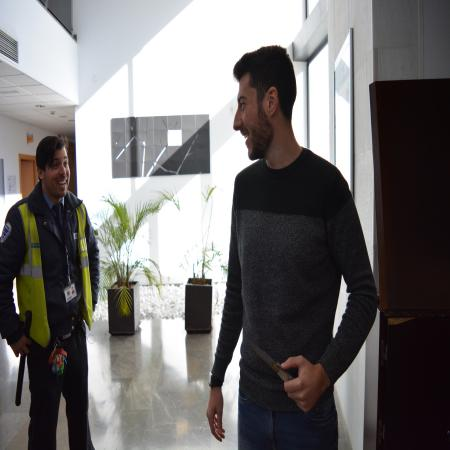long weapon: (246, 336, 298, 385)
